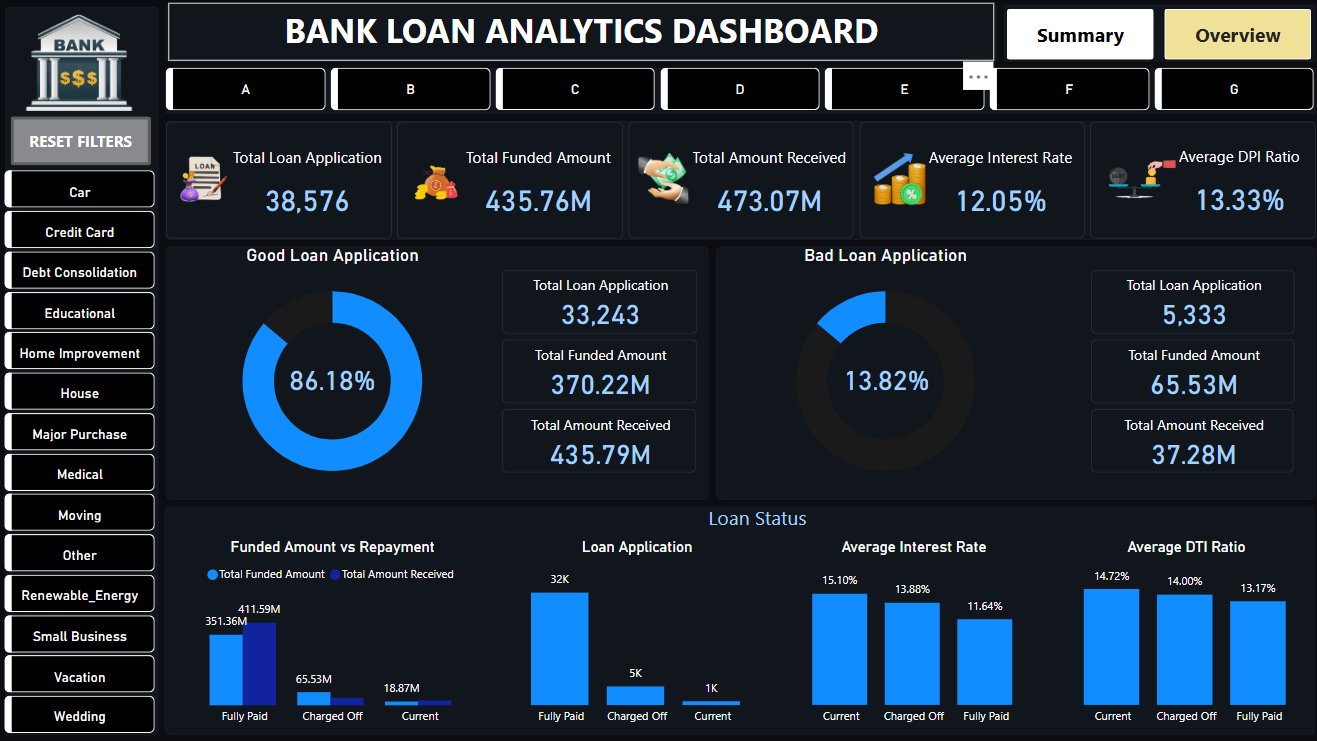

What the dashboard file says about the page in this screenshot:
{"tool":"powerbi","page":{"name":"Summary","canvas":[1280,720],"ordinal":0},"visuals":[{"type":"cardVisual","fields":{"Data":["financial_loan.Total Loan Application","financial_loan.Total Funded Amount","financial_loan.Total Amount Received","financial_loan.Average Interest Rate","financial_loan.Average DPI Rate"]},"box":[158,113.4,1122,123.1],"z":0},{"type":"donutChart","title":"Good Loan Application","fields":{"Category":["financial_loan.Good_vs_Bad_Loan"],"Y":["financial_loan.Total Loan Application"]},"box":[166.5,236.5,314.9,246.1],"z":1000},{"type":"donutChart","title":"Bad Loan Application","fields":{"Category":["financial_loan.Good_vs_Bad_Loan"],"Y":["financial_loan.Total Loan Application"]},"box":[699.7,236.5,316.1,246.1],"z":2000},{"type":"cardVisual","fields":{"Data":["financial_loan.Good Loan %"]},"box":[237.7,311.3,172.5,113.4],"z":3000},{"type":"cardVisual","fields":{"Data":["financial_loan.Bad Loan %"]},"box":[773.3,311.3,170.1,113.4],"z":4000},{"type":"cardVisual","fields":{"Data":["financial_loan.Total Loan Application","financial_loan.Total Funded Amount","financial_loan.Total Amount Received"],"Rows":["financial_loan.Good_vs_Bad_Loan"]},"box":[439.1,236.5,242.5,246.1],"z":5000},{"type":"cardVisual","fields":{"Data":["financial_loan.Total Loan Application","financial_loan.Total Funded Amount","financial_loan.Total Amount Received"],"Rows":["financial_loan.Good_vs_Bad_Loan"]},"box":[1015.8,236.5,242.5,246.1],"z":6000},{"type":"clusteredColumnChart","title":"Funded Amount vs Repayment","fields":{"Category":["financial_loan.LOAN_STATUS"],"Y":["financial_loan.Total Funded Amount","financial_loan.Total Amount Received"]},"box":[166.5,520,314.9,189.4],"z":7000},{"type":"clusteredColumnChart","title":"Loan Application","fields":{"Category":["financial_loan.LOAN_STATUS"],"Y":["financial_loan.Total Loan Application"]},"box":[481.4,520,272.7,189.4],"z":8000},{"type":"textbox","box":[582.7,482.6,302.8,37.4],"z":9000},{"type":"clusteredColumnChart","title":"Average Interest Rate","fields":{"Category":["financial_loan.LOAN_STATUS"],"Y":["financial_loan.Average Interest Rate"]},"box":[754,520,261.8,189.4],"z":10000},{"type":"clusteredColumnChart","title":"Average DTI Ratio","fields":{"Category":["financial_loan.LOAN_STATUS"],"Y":["financial_loan.Average DPI Rate"]},"box":[1015.8,520,264.2,189.4],"z":11000},{"type":"image","box":[0,9.7,158,103.8],"z":12000},{"type":"advancedSlicerVisual","fields":{"Values":["financial_loan.PURPOSE"]},"box":[2.4,160.5,155.6,559.8],"z":13000},{"type":"advancedSlicerVisual","fields":{"Values":["financial_loan.GRADE"]},"box":[158,61.5,1122,51.9],"z":14000},{"type":"actionButton","box":[13.3,113.4,135.1,47.1],"z":15000},{"type":"textbox","box":[165.3,4,797.5,55],"z":16000},{"type":"pageNavigator","box":[972.4,8,299.2,50],"z":17000}]}

Visuals, with their boxes in screenshot pixels (x1, y1, x2, y2), scaled from the page's 1280x720 canvas onto the 1317x741 screenshot:
cardVisual - financial_loan.Total Loan Application x financial_loan.Total Funded Amount: box(163, 117, 1316, 243)
"Good Loan Application" donutChart: box(171, 243, 495, 497)
"Bad Loan Application" donutChart: box(720, 243, 1045, 497)
cardVisual - financial_loan.Good Loan %: box(245, 320, 422, 437)
cardVisual - financial_loan.Bad Loan %: box(796, 320, 971, 437)
cardVisual - financial_loan.Total Loan Application x financial_loan.Total Funded Amount: box(452, 243, 701, 497)
cardVisual - financial_loan.Total Loan Application x financial_loan.Total Funded Amount: box(1045, 243, 1295, 497)
"Funded Amount vs Repayment" clusteredColumnChart: box(171, 535, 495, 730)
"Loan Application" clusteredColumnChart: box(495, 535, 776, 730)
textbox: box(600, 497, 911, 535)
"Average Interest Rate" clusteredColumnChart: box(776, 535, 1045, 730)
"Average DTI Ratio" clusteredColumnChart: box(1045, 535, 1316, 730)
image: box(0, 10, 163, 117)
advancedSlicerVisual - financial_loan.PURPOSE: box(2, 165, 163, 740)
advancedSlicerVisual - financial_loan.GRADE: box(163, 63, 1316, 117)
actionButton: box(14, 117, 153, 165)
textbox: box(170, 4, 991, 61)
pageNavigator: box(1001, 8, 1308, 60)
